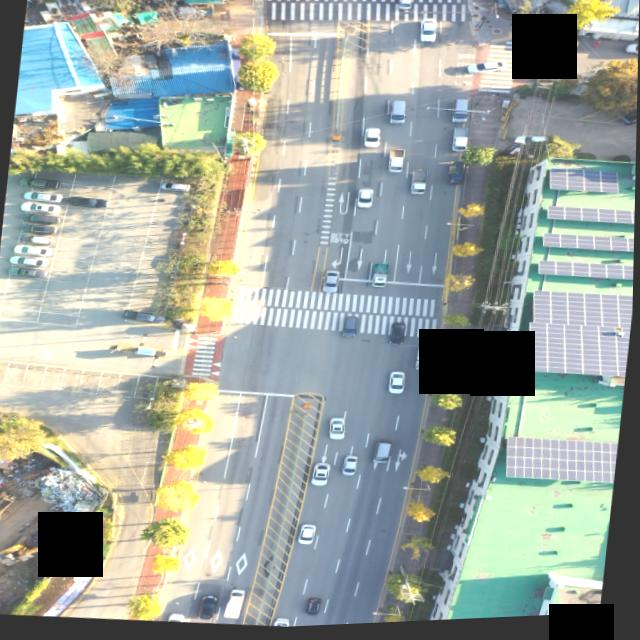car: (121, 308, 172, 325), (16, 198, 64, 215), (464, 61, 509, 79), (67, 193, 112, 211), (4, 253, 54, 269), (19, 173, 65, 190), (449, 98, 474, 129), (308, 463, 337, 489), (16, 220, 63, 236), (3, 264, 52, 279), (374, 439, 399, 468), (18, 188, 66, 203), (321, 266, 344, 297), (198, 593, 222, 622), (340, 315, 365, 342), (387, 321, 411, 349), (387, 100, 410, 129), (515, 134, 554, 151), (360, 127, 386, 152), (326, 417, 350, 444), (18, 210, 61, 225), (417, 19, 440, 47), (13, 242, 58, 256), (387, 371, 410, 398), (155, 179, 196, 193), (355, 187, 377, 213), (297, 524, 320, 548), (306, 596, 330, 618), (20, 232, 60, 245), (341, 455, 362, 479), (395, 0, 416, 15), (624, 44, 639, 63)
small_truck: (536, 38, 583, 55), (366, 263, 393, 292), (225, 588, 248, 622), (446, 163, 470, 191), (448, 129, 472, 156), (408, 170, 430, 199), (384, 151, 408, 176), (417, 348, 436, 375)
